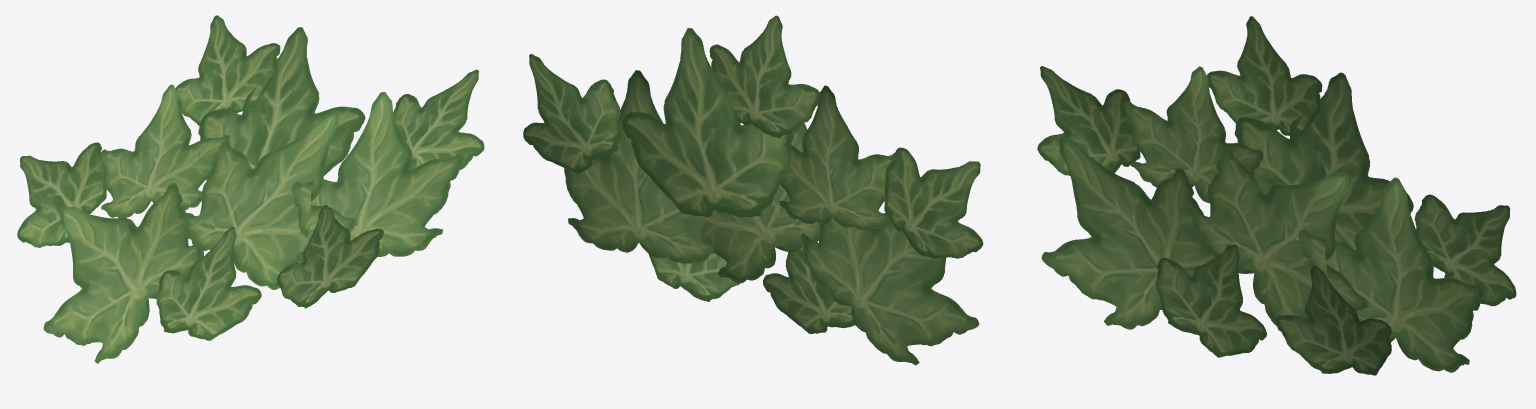
File: IvyBush.fbx
3 views of the same model, side by side, from view 1: azimuth 30°, elevation 25°; view 2: azimuth 150°, elevation 25°; view 3: azimuth 330°, elevation 25° (orthographic). The views are drawn at different scales.
Visible parts, largest first — view 1: IvyBush; view 2: IvyBush; view 3: IvyBush.
Part boxes in pixels (x1,y1,x2,y2): IvyBush: (17, 15, 484, 363); IvyBush: (523, 15, 983, 365); IvyBush: (1037, 16, 1516, 375).
Bounding box in the file's own units: 63.85 × 45.16 × 8.27.
Materials: 1 (1 with a texture image).
